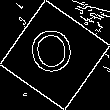O_S: (30, 26, 80, 84)
